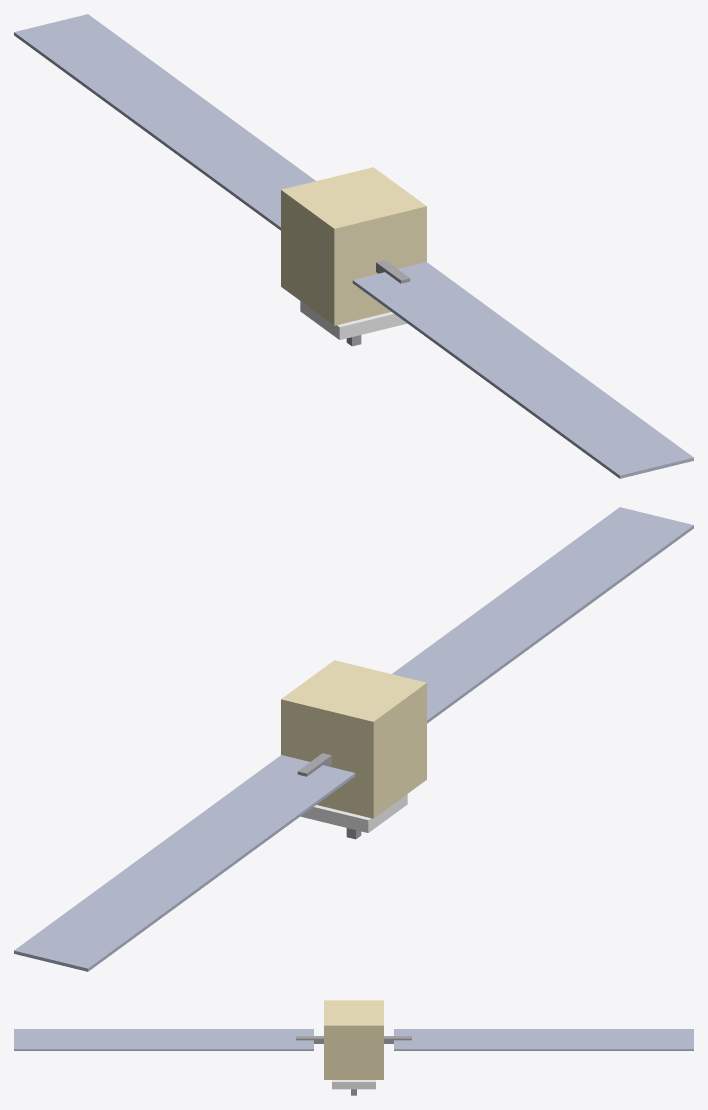
Rendered from comms.glb.
3 renders of one model, top to bottom at view 1: azimuth 30°, elevation 25°; view 2: azimuth 150°, elevation 25°; view 3: azimuth 270°, elevation 25°, orthographic. The views are drawn at different scales.
Visible parts, largest first — view 1: comms; view 2: comms; view 3: comms.
Boxes of the visible parts, bbox=[...] form: comms: bbox=[14, 14, 693, 478]; comms: bbox=[14, 507, 693, 971]; comms: bbox=[14, 1000, 693, 1095].
Bounding box in the file's own units: 3 × 4.5 × 34.
